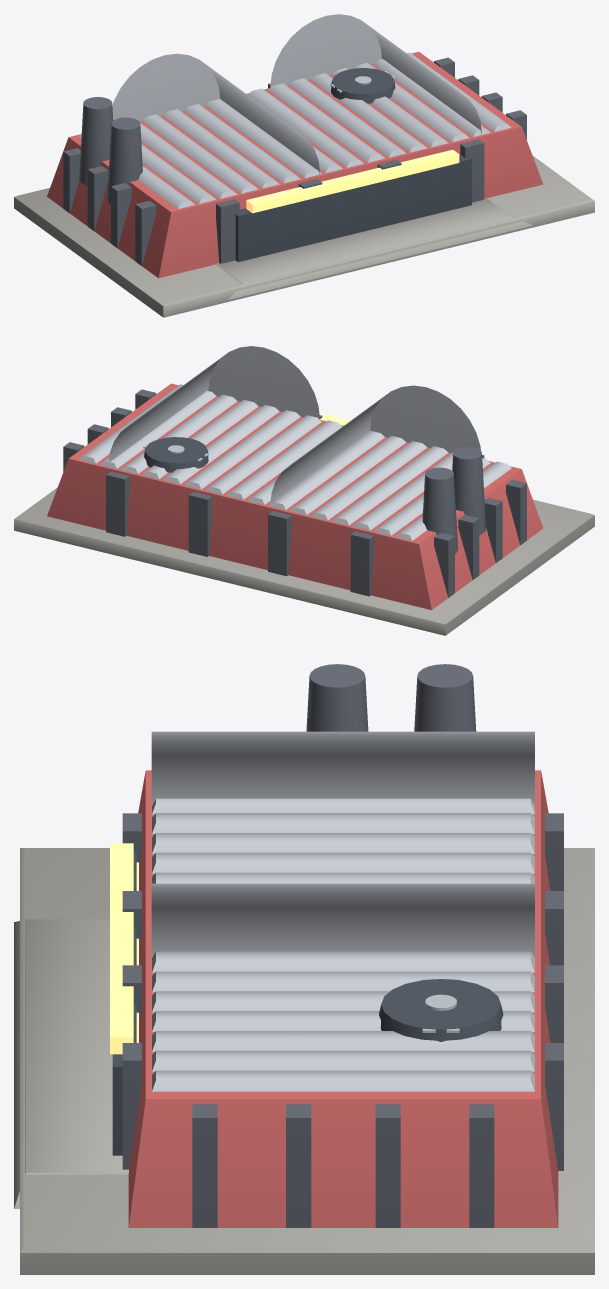
File: naweap.glb
3 renders of one model, top to bottom at view 1: azimuth 30°, elevation 25°; view 2: azimuth 150°, elevation 25°; view 3: azimuth 270°, elevation 25°, orthographic. The views are drawn at different scales.
Parts seen in each view (by area): view 1: Hull; view 2: Hull; view 3: Hull.
Boxes of the visible parts, left/top/right/bottom form: Hull: left=14, top=14, right=594, bottom=317; Hull: left=14, top=346, right=594, bottom=635; Hull: left=14, top=664, right=594, bottom=1274.
Bounding box in the file's own units: 8.64 × 2.52 × 5.24.
